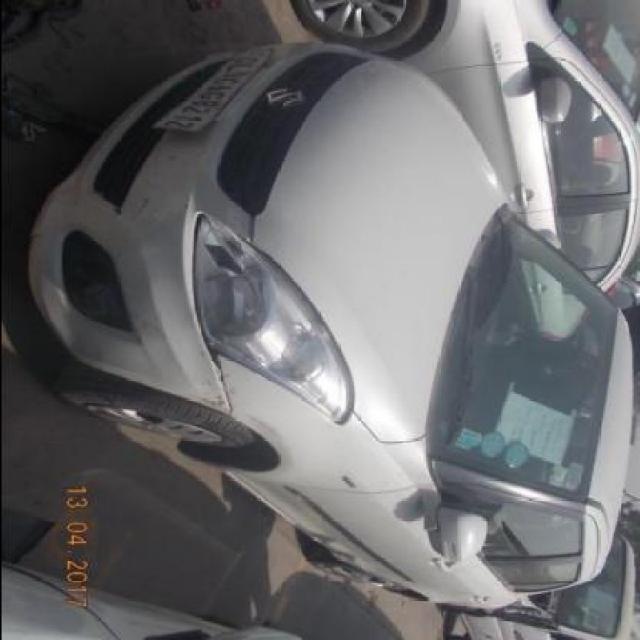damage: (186, 292, 225, 383), (128, 306, 172, 341), (194, 390, 237, 413), (129, 197, 158, 224)
